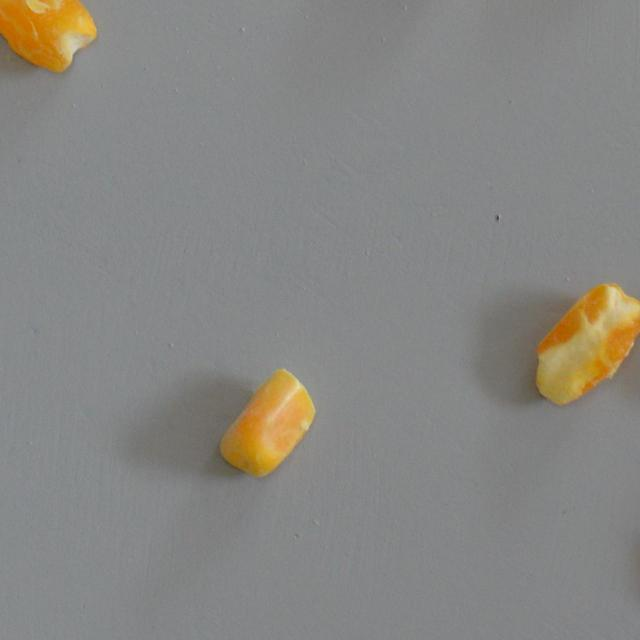dañado: (216, 366, 318, 480)
pelicula: (530, 276, 640, 410), (0, 0, 101, 78)
